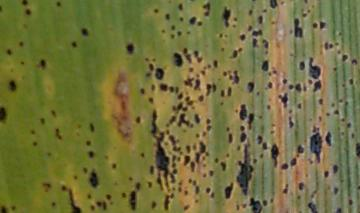tarspot: (150, 110, 170, 190), (237, 144, 254, 196), (311, 131, 322, 163), (308, 55, 321, 79), (68, 189, 81, 213), (292, 18, 304, 39), (222, 6, 231, 28), (249, 198, 262, 213), (271, 144, 279, 167), (89, 171, 99, 188), (278, 92, 288, 108), (177, 113, 189, 126), (173, 53, 184, 67), (129, 190, 136, 211), (239, 104, 248, 120), (225, 182, 233, 200), (231, 70, 240, 85), (125, 42, 135, 55), (313, 79, 322, 93), (168, 134, 178, 146), (248, 112, 255, 129), (325, 130, 332, 147), (155, 67, 164, 80), (199, 140, 207, 154), (308, 202, 318, 213), (164, 195, 170, 213), (203, 3, 211, 16), (261, 59, 269, 72), (184, 77, 194, 87), (205, 83, 212, 97), (9, 80, 17, 92), (39, 57, 47, 69), (54, 128, 62, 140), (247, 81, 255, 93), (287, 116, 295, 128), (194, 78, 201, 91), (81, 27, 90, 37), (86, 149, 95, 159), (252, 29, 263, 37), (220, 160, 227, 172), (168, 115, 177, 124), (1, 107, 6, 123), (319, 20, 327, 30), (279, 162, 289, 170), (355, 143, 360, 159), (186, 53, 193, 64), (262, 38, 269, 49), (184, 155, 191, 166), (194, 112, 200, 124), (195, 152, 201, 164), (170, 173, 176, 185), (289, 158, 297, 167), (190, 15, 197, 25), (251, 38, 258, 48), (297, 145, 304, 155), (21, 20, 28, 30), (89, 122, 95, 133), (299, 60, 305, 71), (227, 133, 233, 144), (190, 161, 196, 172), (283, 183, 289, 194), (24, 8, 32, 16), (39, 117, 47, 125), (160, 84, 168, 92), (196, 56, 204, 64), (270, 1, 278, 9), (311, 21, 319, 29), (196, 94, 204, 102), (6, 48, 13, 57), (238, 34, 247, 41), (240, 133, 247, 142), (256, 135, 263, 144), (257, 15, 263, 25), (149, 166, 155, 176), (296, 83, 302, 93), (227, 85, 232, 97), (171, 146, 181, 152), (298, 181, 304, 191), (324, 169, 330, 179), (333, 186, 339, 196), (71, 40, 78, 48), (147, 96, 155, 103), (164, 13, 171, 21), (342, 54, 349, 62), (208, 169, 215, 177), (313, 125, 320, 133), (1, 206, 9, 213), (43, 182, 51, 189), (102, 153, 110, 160), (8, 65, 15, 73), (212, 82, 217, 93), (51, 109, 57, 118), (178, 3, 184, 12), (174, 85, 180, 94), (193, 49, 199, 58), (349, 77, 355, 86), (220, 89, 226, 98), (177, 101, 183, 110), (262, 141, 268, 150), (333, 165, 339, 174), (151, 200, 157, 209), (136, 181, 141, 191), (19, 59, 26, 66), (85, 139, 92, 146), (177, 93, 184, 100), (281, 78, 288, 85), (239, 125, 246, 132), (171, 104, 178, 111), (269, 197, 276, 204), (183, 204, 190, 211), (105, 193, 112, 200), (338, 176, 345, 183), (288, 51, 295, 58), (135, 116, 141, 124), (334, 108, 340, 116), (288, 83, 294, 91), (267, 81, 273, 89), (232, 50, 238, 58), (185, 95, 191, 103), (186, 145, 192, 153), (102, 202, 108, 210), (151, 83, 156, 92), (149, 63, 154, 72), (22, 1, 29, 7), (30, 129, 36, 136), (111, 162, 117, 169), (140, 152, 146, 159), (140, 88, 146, 95), (196, 20, 203, 26), (169, 86, 175, 93), (318, 98, 324, 105), (182, 105, 188, 112), (188, 100, 195, 106), (346, 121, 352, 128), (214, 157, 220, 164), (172, 168, 178, 175), (335, 207, 342, 213), (121, 191, 127, 198), (112, 180, 119, 186), (308, 115, 314, 122), (171, 23, 176, 31), (213, 60, 218, 68), (148, 181, 153, 189), (324, 42, 329, 50), (308, 78, 313, 86), (206, 186, 211, 194), (263, 199, 268, 207), (195, 186, 200, 194), (56, 1, 62, 7), (18, 41, 24, 47), (32, 141, 38, 147), (153, 8, 159, 14), (170, 33, 176, 39), (262, 8, 268, 14), (270, 20, 276, 26), (164, 122, 170, 128), (351, 59, 357, 65), (272, 69, 278, 75), (222, 71, 228, 77), (258, 114, 264, 120), (206, 125, 212, 131), (269, 129, 275, 135), (252, 157, 258, 163), (194, 198, 200, 204), (61, 185, 67, 191), (109, 199, 115, 205), (144, 73, 151, 78), (177, 30, 182, 37), (183, 47, 188, 54), (248, 9, 253, 16), (301, 13, 308, 18), (303, 85, 308, 92), (201, 69, 206, 76), (202, 130, 207, 137), (195, 132, 200, 139), (351, 132, 356, 139), (236, 144, 241, 151), (177, 155, 182, 162), (295, 194, 302, 199), (348, 199, 353, 206), (83, 167, 88, 174), (77, 122, 82, 129), (267, 103, 271, 111), (193, 142, 197, 150), (172, 154, 176, 162), (144, 57, 150, 62), (151, 58, 157, 63), (179, 16, 184, 22), (224, 32, 229, 38), (338, 31, 343, 37), (328, 43, 334, 48), (334, 41, 340, 46), (339, 98, 344, 104), (318, 115, 323, 121), (297, 103, 302, 109), (248, 25, 253, 31), (228, 75, 233, 81), (206, 118, 211, 124), (225, 126, 230, 132), (210, 192, 215, 198), (171, 163, 177, 168), (242, 204, 248, 209), (310, 193, 315, 199), (183, 190, 189, 195), (170, 192, 175, 198), (51, 201, 56, 207), (86, 194, 92, 199), (128, 175, 133, 181), (96, 202, 102, 207), (342, 82, 346, 89), (331, 101, 335, 108), (270, 123, 277, 127), (236, 204, 240, 211), (47, 152, 52, 157), (161, 29, 166, 34), (189, 67, 194, 72), (233, 17, 238, 22), (280, 1, 285, 6), (307, 9, 312, 14), (165, 129, 170, 134), (333, 66, 338, 71), (288, 109, 293, 114), (264, 50, 269, 55), (238, 47, 243, 52), (256, 91, 261, 96), (202, 65, 207, 70), (195, 73, 200, 78), (341, 131, 346, 136), (206, 152, 211, 157), (202, 156, 207, 161), (188, 178, 193, 183), (178, 181, 183, 186), (11, 206, 16, 211), (73, 175, 78, 180), (219, 33, 223, 39), (231, 25, 237, 29), (164, 142, 170, 146), (337, 49, 341, 55), (208, 63, 212, 69), (190, 123, 194, 129), (341, 117, 345, 123), (226, 152, 230, 158), (305, 173, 309, 179), (193, 180, 197, 186), (178, 187, 182, 193), (91, 205, 95, 211), (186, 31, 191, 35), (304, 1, 309, 5), (327, 112, 331, 117), (268, 72, 272, 77), (220, 101, 224, 106), (235, 108, 239, 113), (260, 153, 264, 158), (203, 173, 207, 178), (202, 163, 207, 167), (183, 129, 188, 133), (191, 106, 196, 110), (356, 185, 360, 190), (1, 4, 3, 13), (346, 101, 349, 107), (221, 48, 225, 52), (172, 187, 176, 191), (251, 1, 257, 3)
